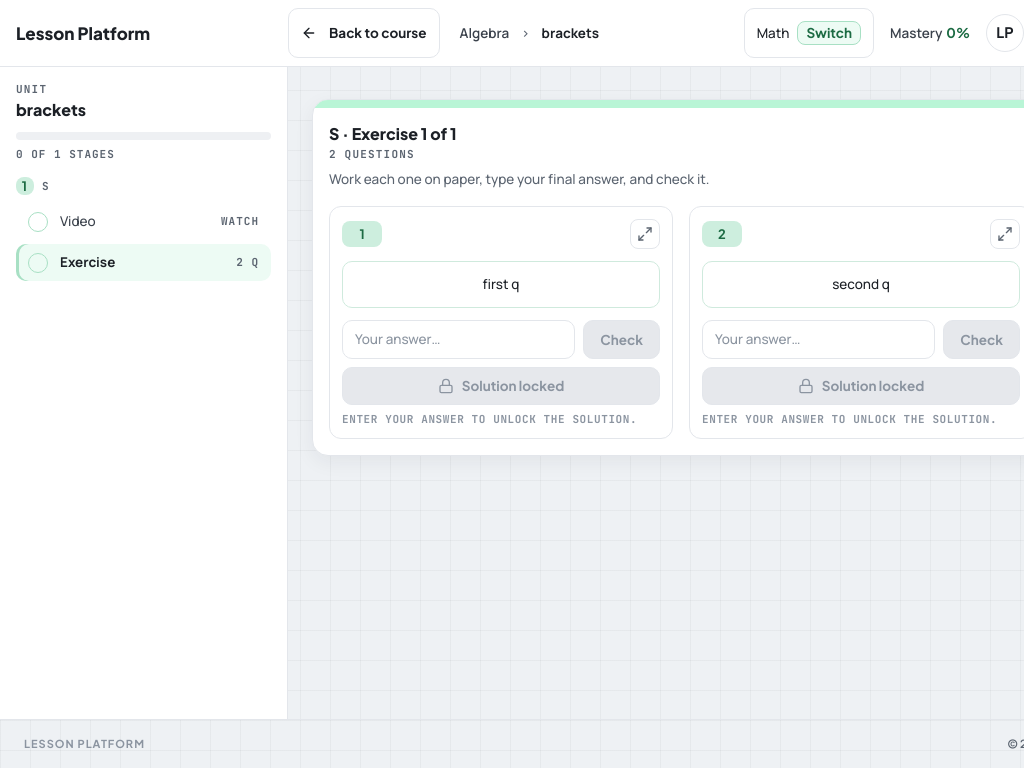
Test: Question focus view (§7c) › is an in-place dialog over a blurred scrim (the worksheet stays mounted, not a route)
Click the button named "Enlarge question 1": (645, 234) [630,219,660,249]
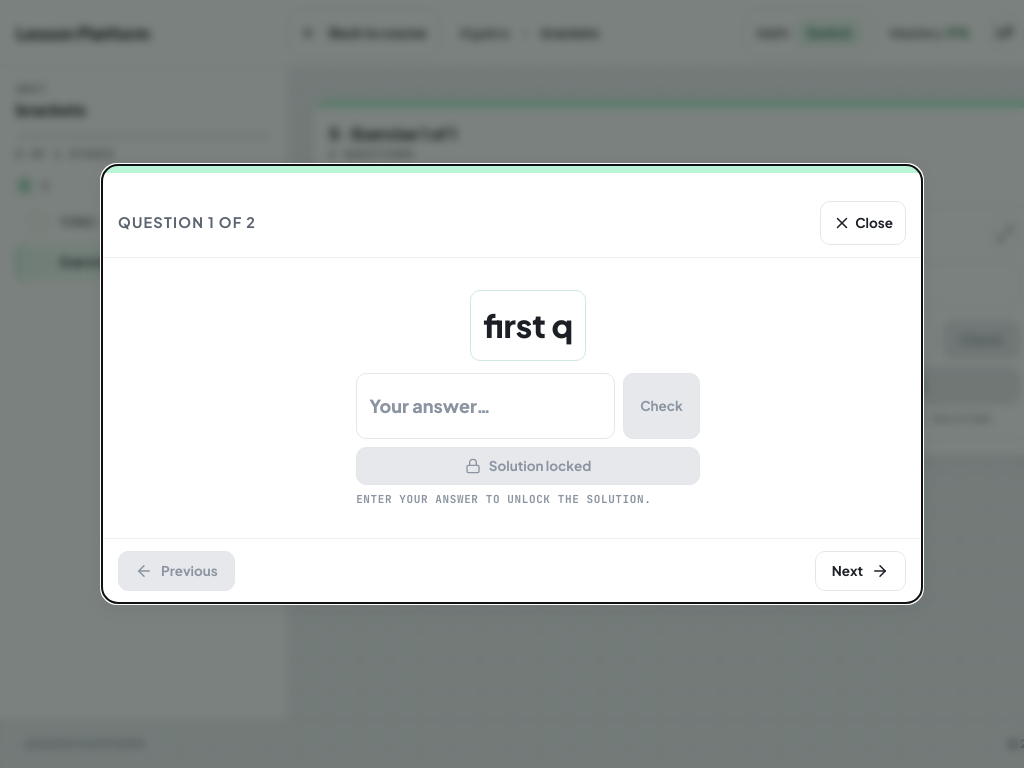
Result: the element with class "focus-backdrop" is shown
